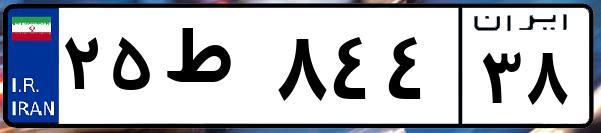2: (57, 26, 110, 100)
3: (475, 38, 525, 113)
4: (385, 28, 445, 110), (330, 28, 385, 110)
5: (110, 28, 158, 98)
8: (270, 28, 330, 110), (525, 38, 570, 115)
ط: (158, 20, 270, 120)
